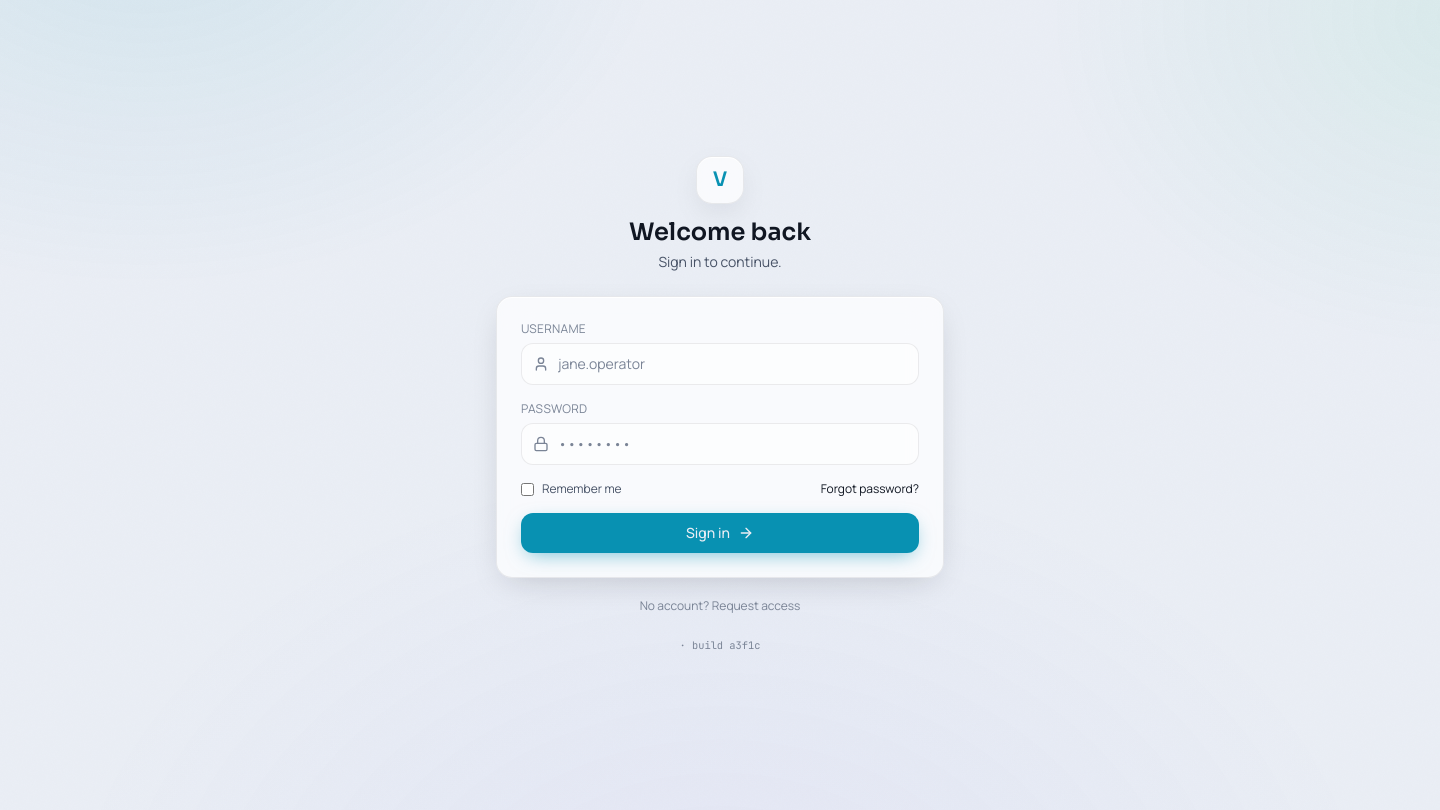
LoginPage › Successful Login › shows loading state during login
Type "testuser" into the field labelled "USERNAME" at {"x": 720, "y": 364}, box [521,343,919,385]
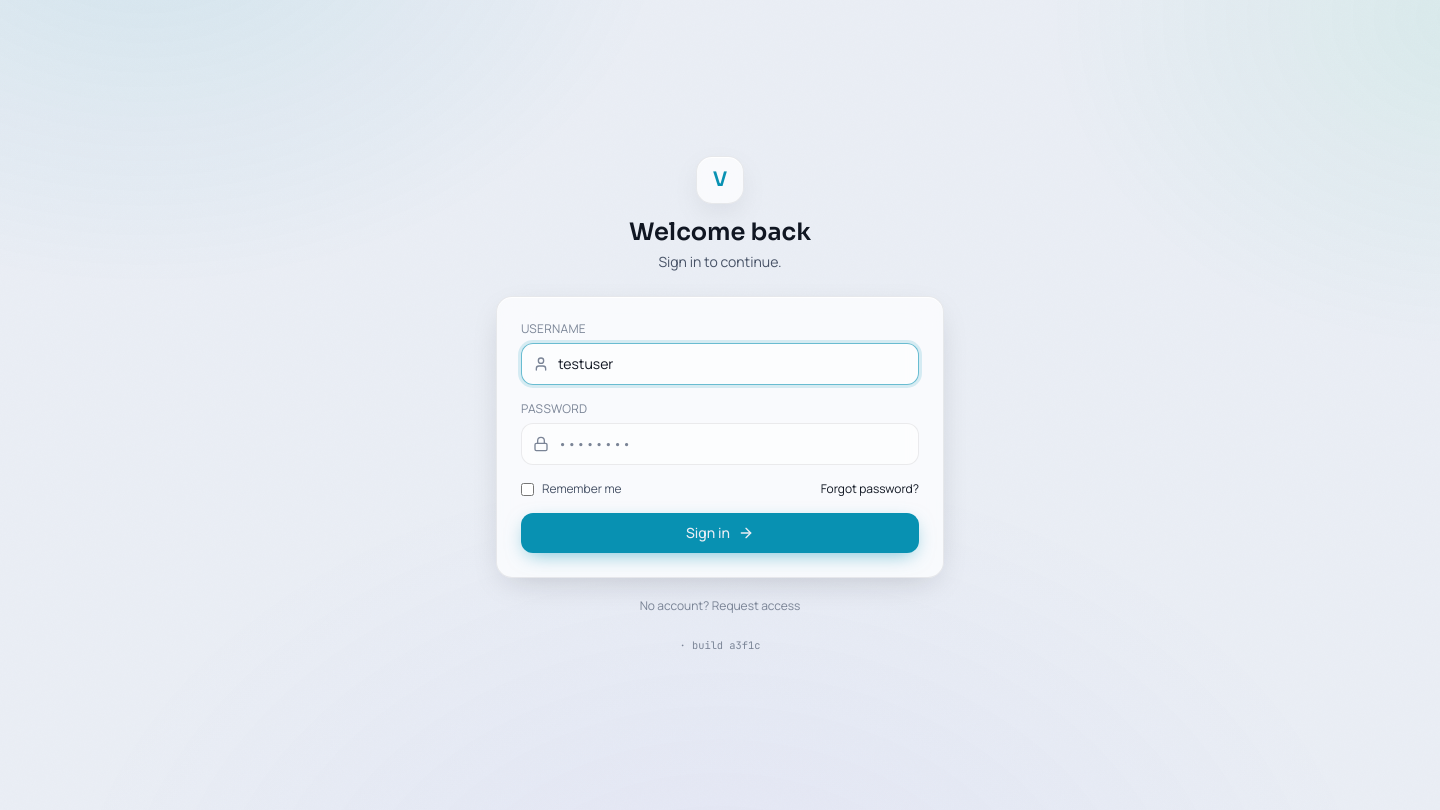
Type "password123" into the password field labelled "PASSWORD" at {"x": 720, "y": 444}, box [521,423,919,465]
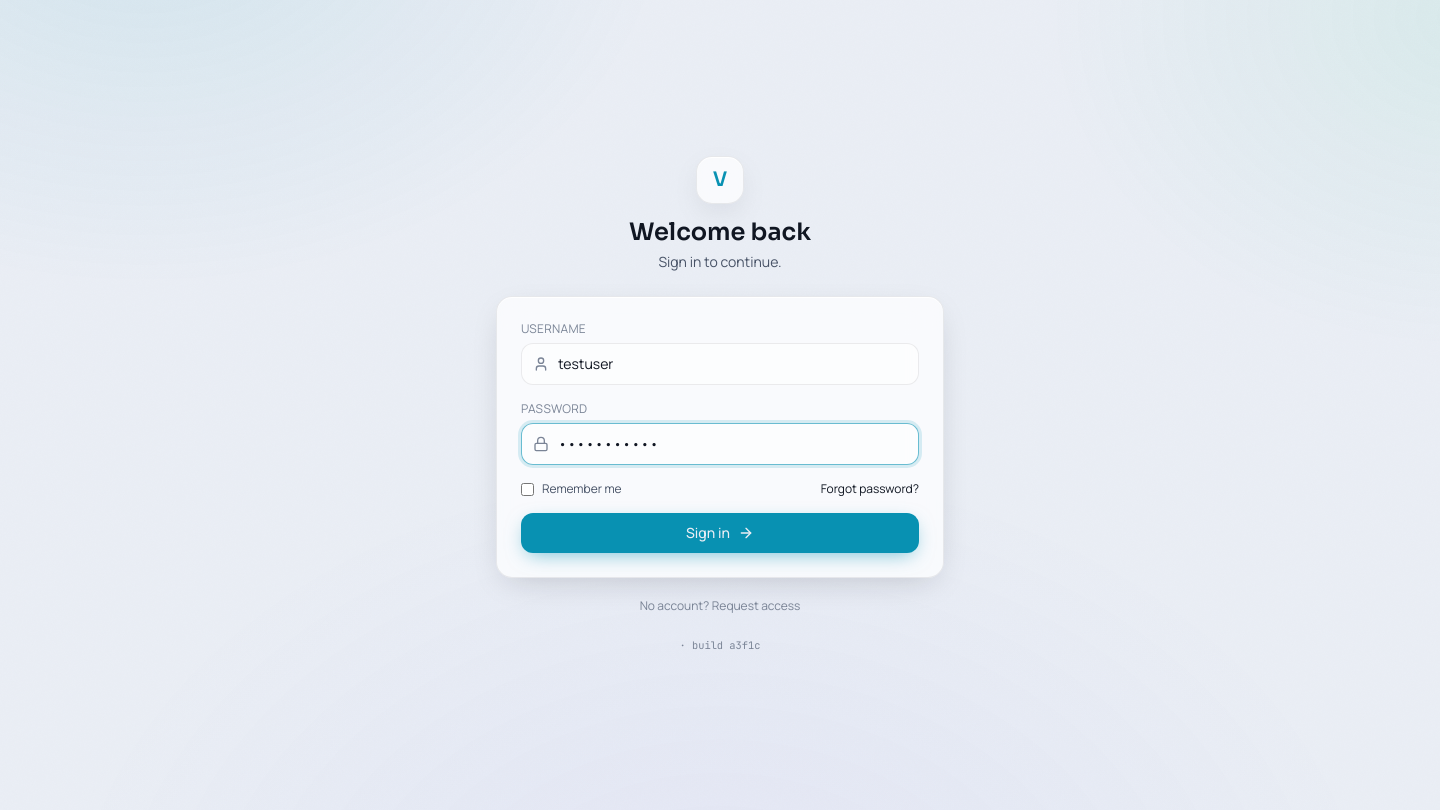
Click the button "Sign in" at {"x": 720, "y": 533}, box [521,513,919,553]
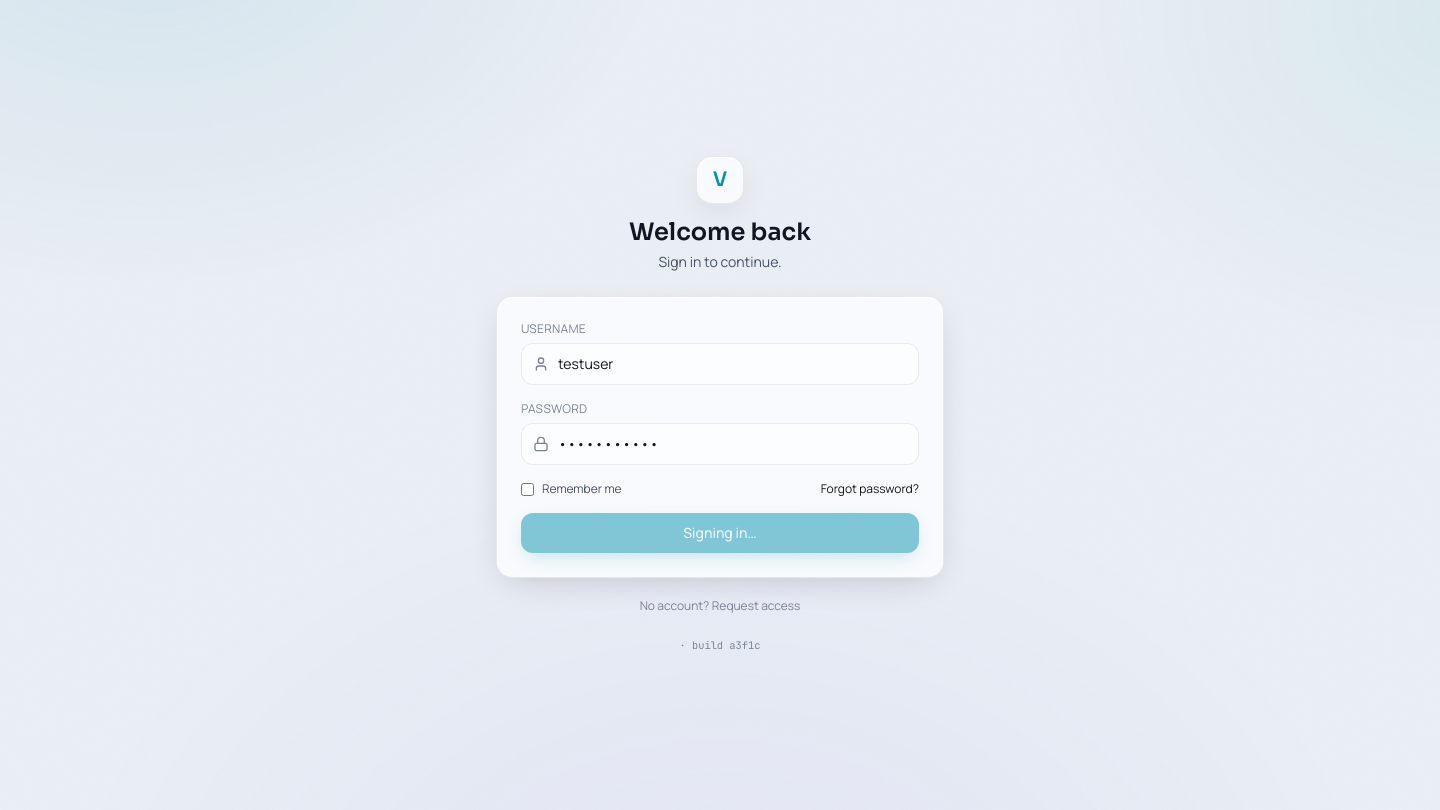
Expected: the button named "sign in" is disabled, [521,513,919,553]
